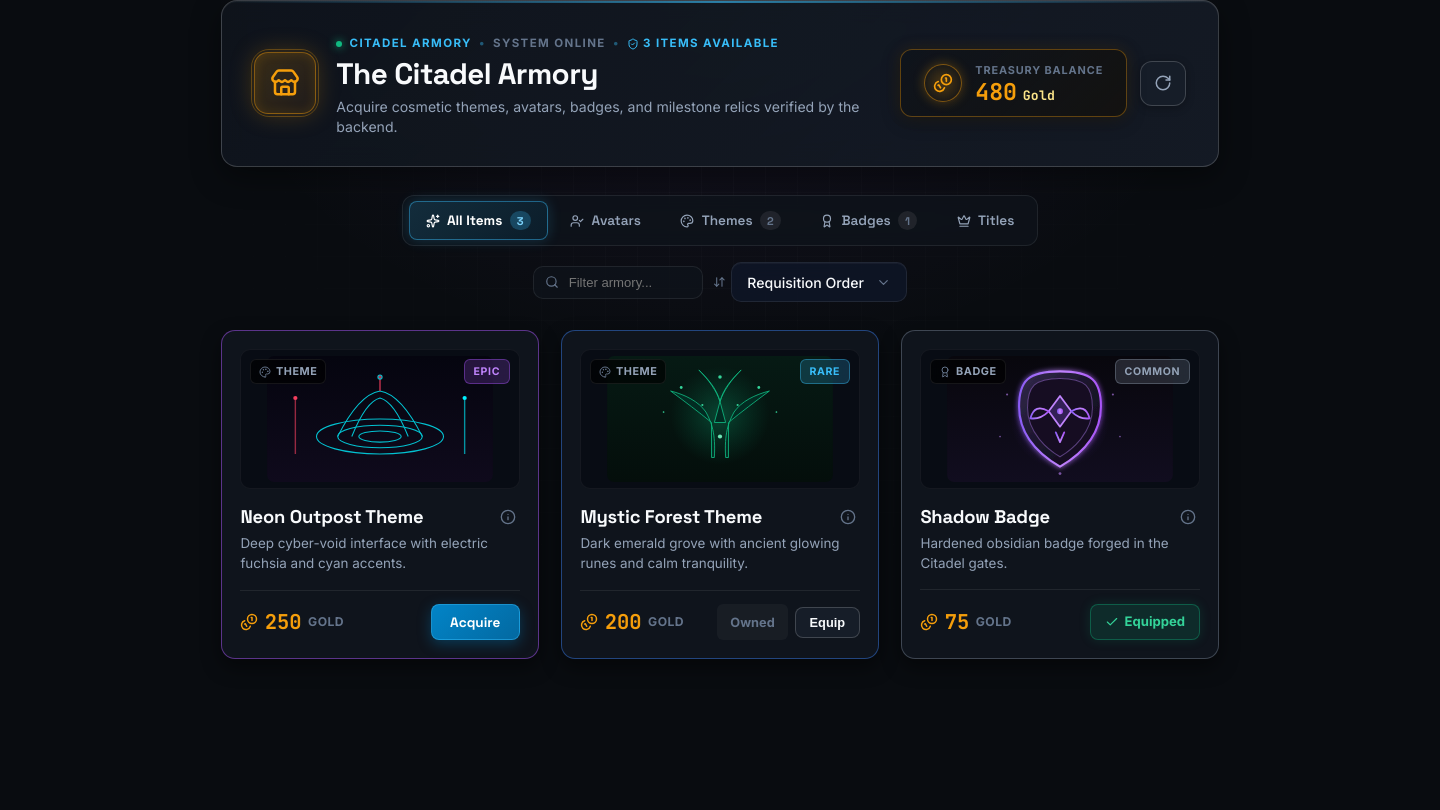
Test: Phase 5 — Shop, Inventory & Rewards System › 9. closes purchase confirmation modal when Escape key is pressed
The image size is (1440, 810).
Click the button with aria-label "Purchase Neon Outpost Theme for 250 Gold" at (476, 622), box [431,604,520,640]
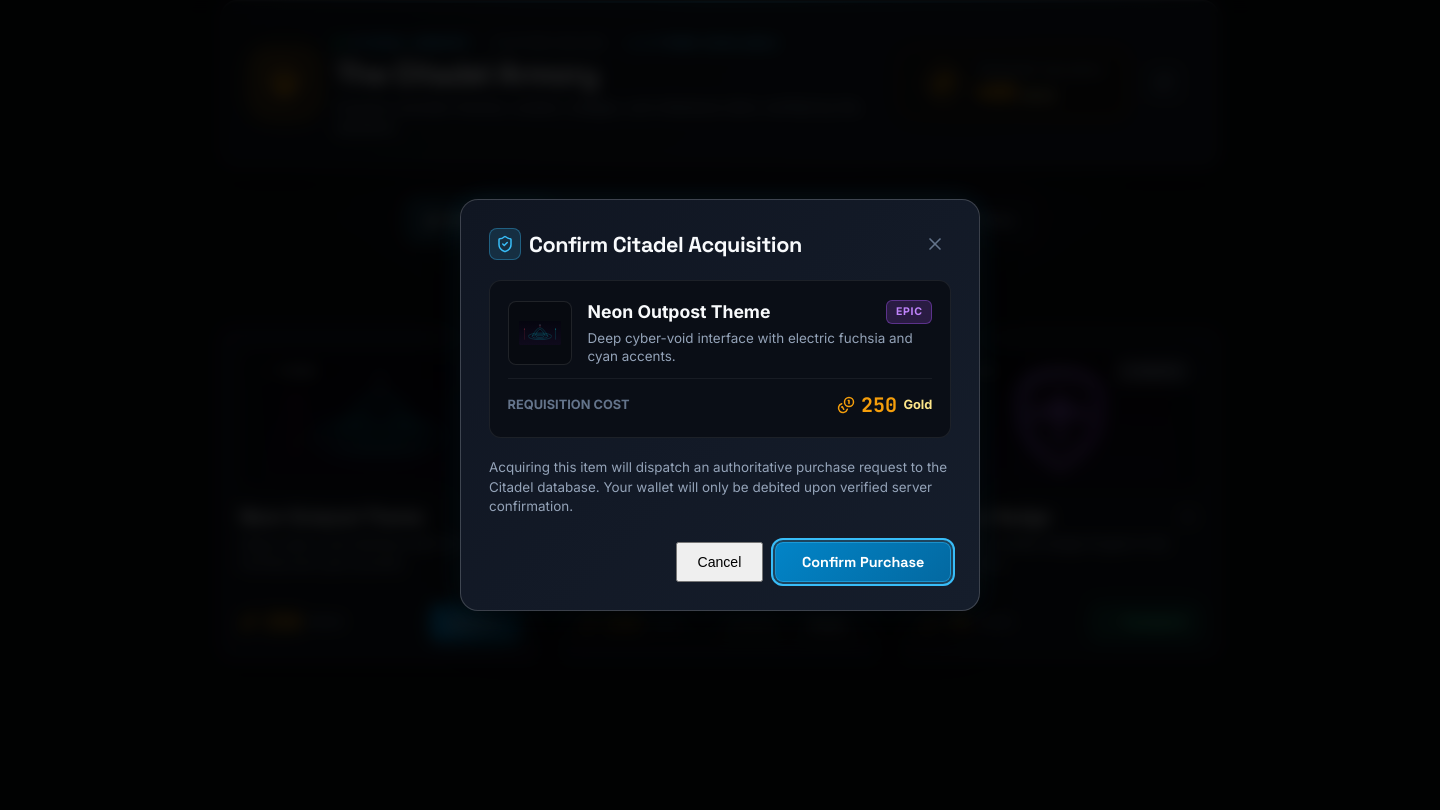
Check: the dialog is shown, box [460,200,980,610]
Press Escape
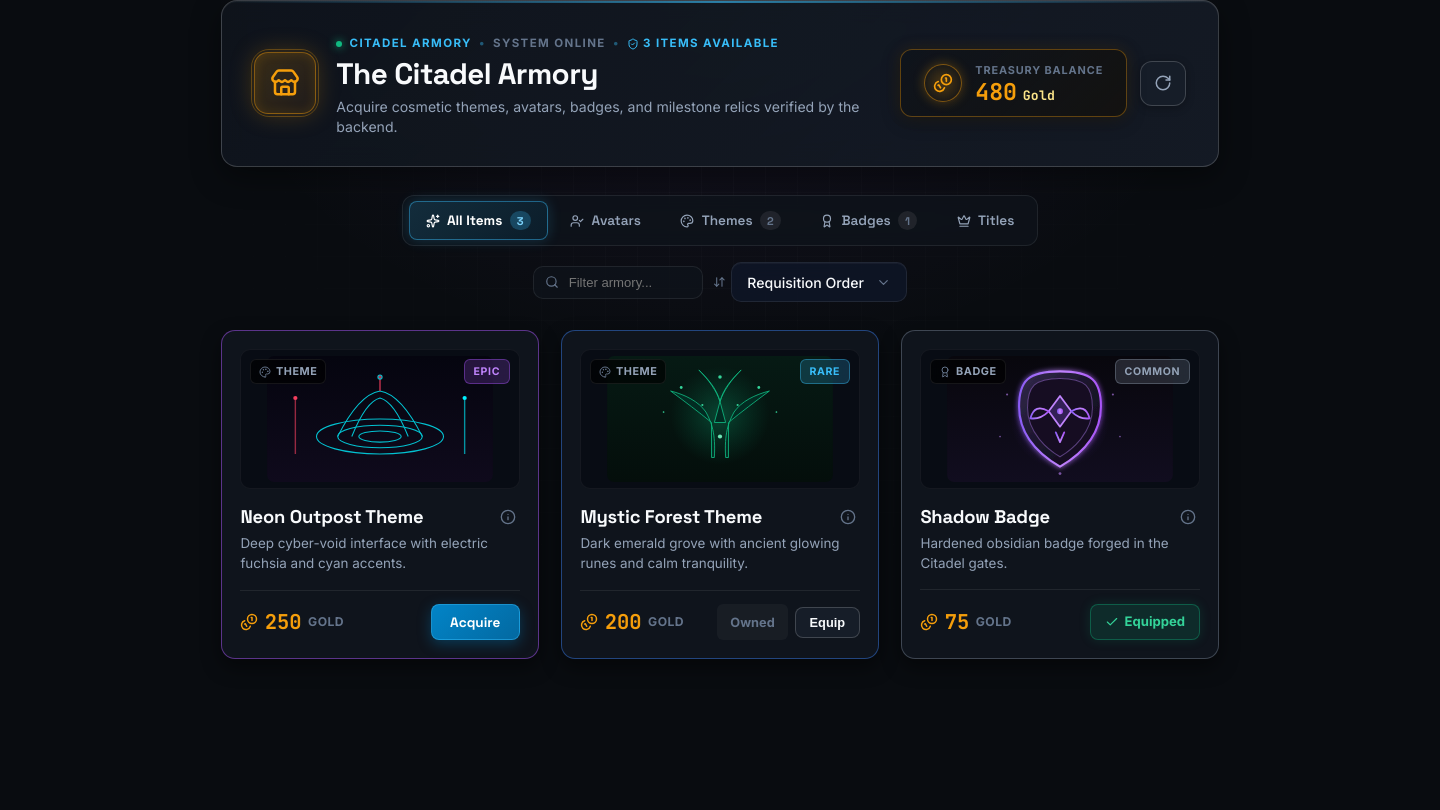
Check: the dialog is gone
